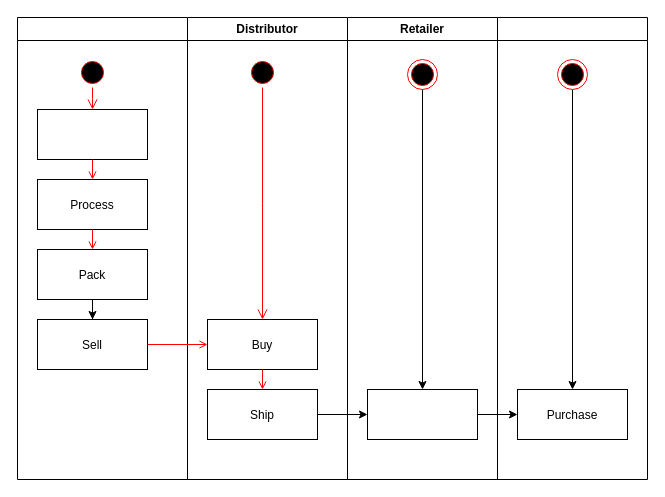
Some shapes in this 665 by 497 pixel diagram are drawn without their labels. The box of each missing label's shape, as (x1, y1, x2, y2) in pixels:
Customer: (496, 16, 648, 480)
Farmer: (16, 16, 188, 480)
Harvest: (36, 108, 148, 160)
Receive: (366, 388, 478, 440)
